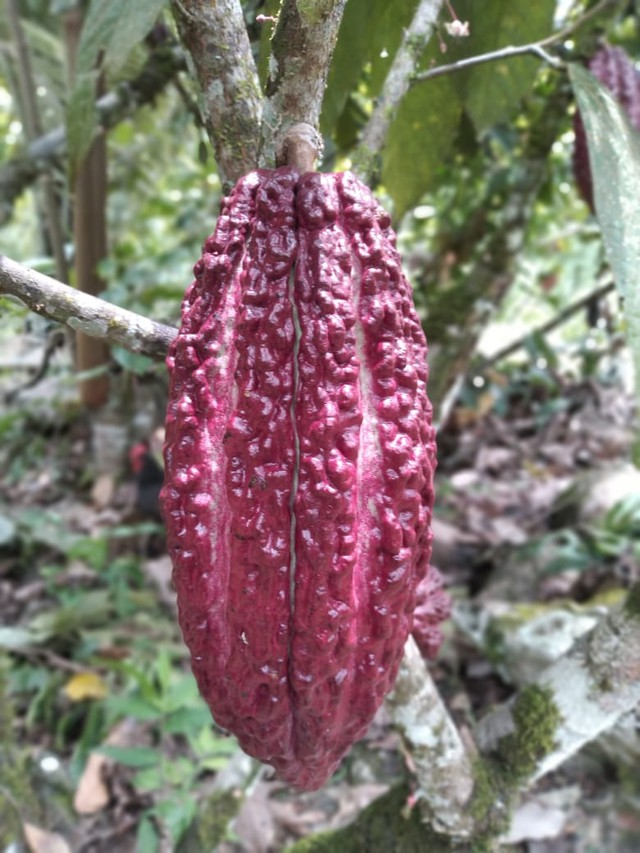Health: (154, 150, 442, 791)
